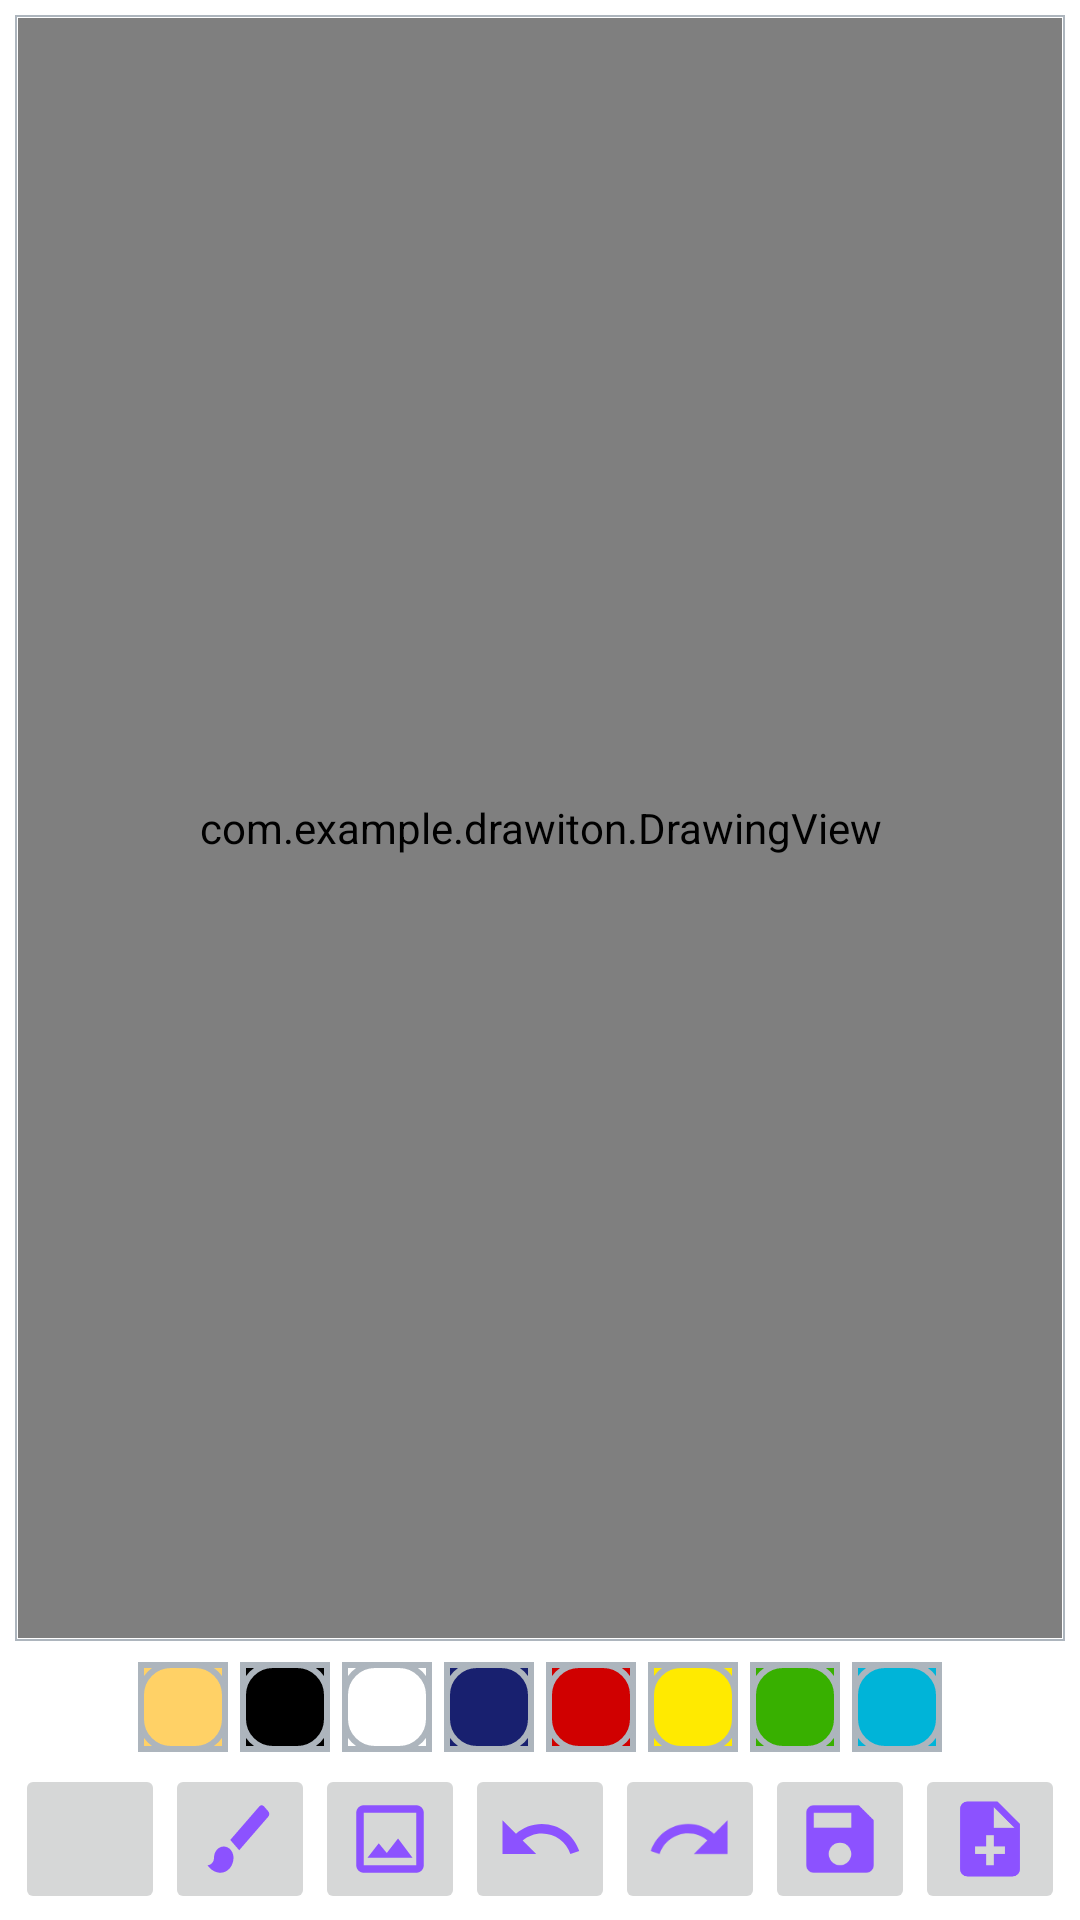

Named icons in this screenshot (1080 × 1920) and their bounding boxes, {"x1": x1, "y1": y1, "x2": x2, "y2": y2}:
brush: {"x1": 177, "y1": 1782, "x2": 303, "y2": 1896}
imageicon: {"x1": 327, "y1": 1782, "x2": 453, "y2": 1896}
redo: {"x1": 627, "y1": 1782, "x2": 753, "y2": 1896}
save: {"x1": 777, "y1": 1782, "x2": 903, "y2": 1896}
undo: {"x1": 477, "y1": 1782, "x2": 603, "y2": 1896}
